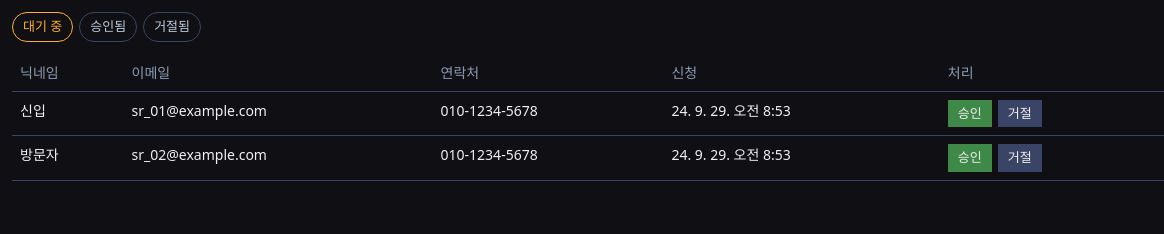
Scenario: SignupsPanel › 이미 처리된 신청(409)이면 안내하고, 거절됨 필터는 사유를 보여준다
What coordinates should you click on to do the following:
click the button "승인" in the row of "신입"
I would click on:
 (970, 113)
Its box is [948, 100, 992, 127].
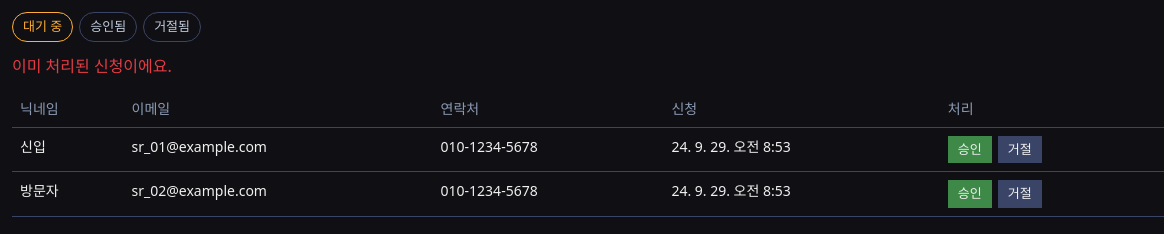
Check: the message reads "이미 처리된 신청이에요.", box [12, 54, 172, 76]
What coordinates should you click on to do the following:
click the button "거절됨"
I would click on:
 (172, 27)
Its box is [143, 12, 201, 42].
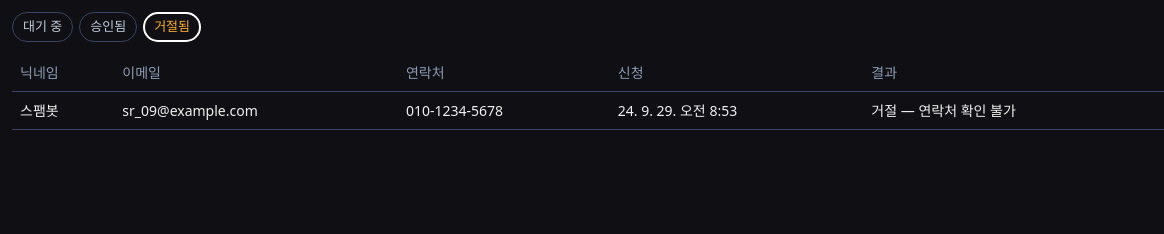
Check: the text "거절 — 연락처 확인 불가" is shown, box [871, 100, 1016, 120]
